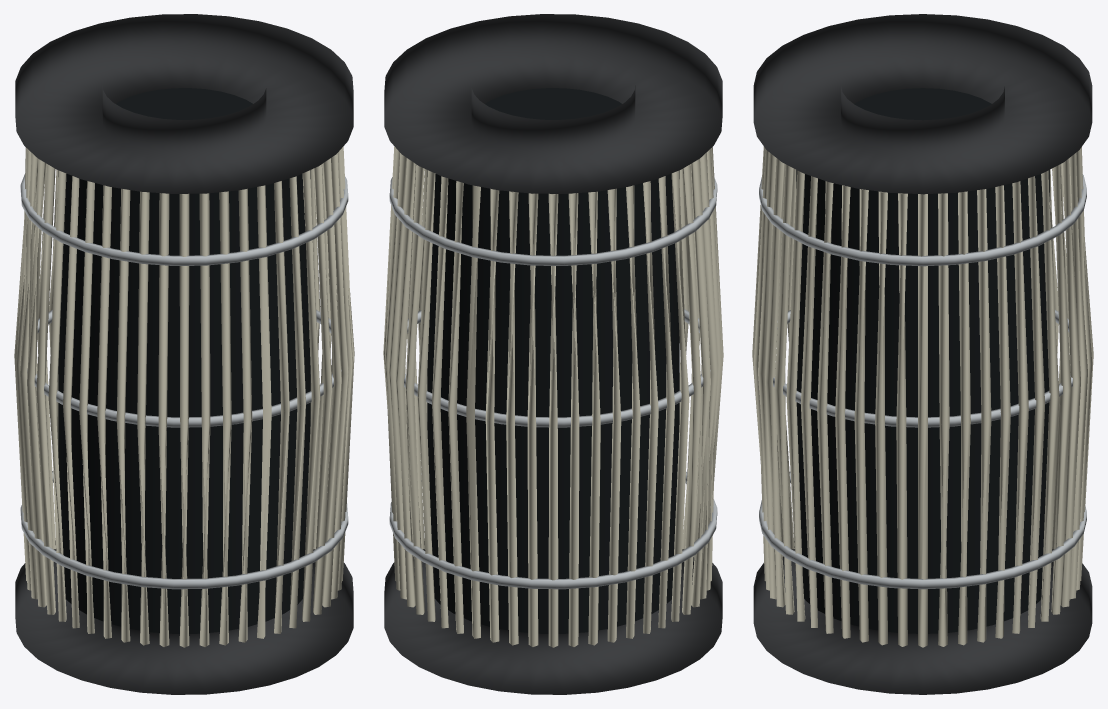
The model's file is air_filter.glb.
3 renders of one model, left to right at view 1: azimuth 30°, elevation 25°; view 2: azimuth 150°, elevation 25°; view 3: azimuth 270°, elevation 25°, orthographic.
Visible parts, largest first — view 1: air_filter; view 2: air_filter; view 3: air_filter.
Boxes of the visible parts, left/top/right/bottom form: air_filter: left=14, top=14, right=354, bottom=694; air_filter: left=383, top=14, right=723, bottom=694; air_filter: left=752, top=14, right=1093, bottom=694.
Size of the model in its own units: 0.1916 by 0.333 by 0.1916.
